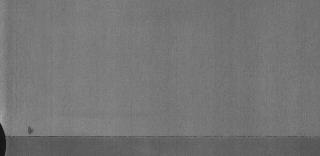oil spot: (26, 126, 36, 134)
welding line: (4, 133, 320, 143)
